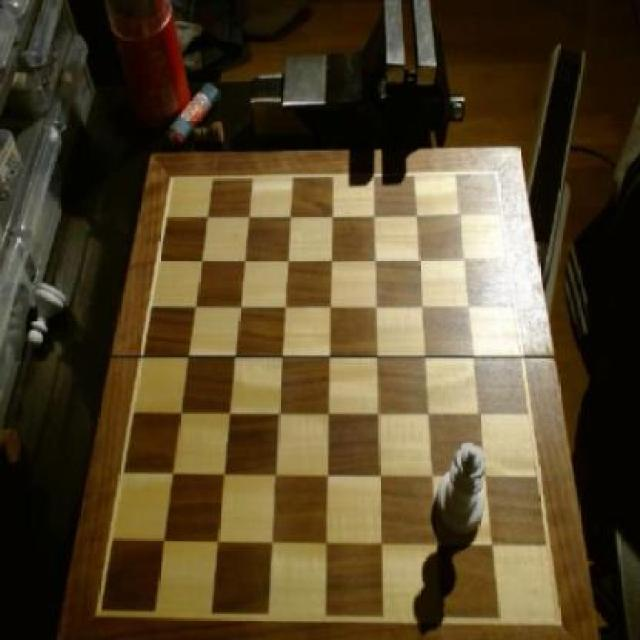white-pawn: (438, 438, 487, 538)
